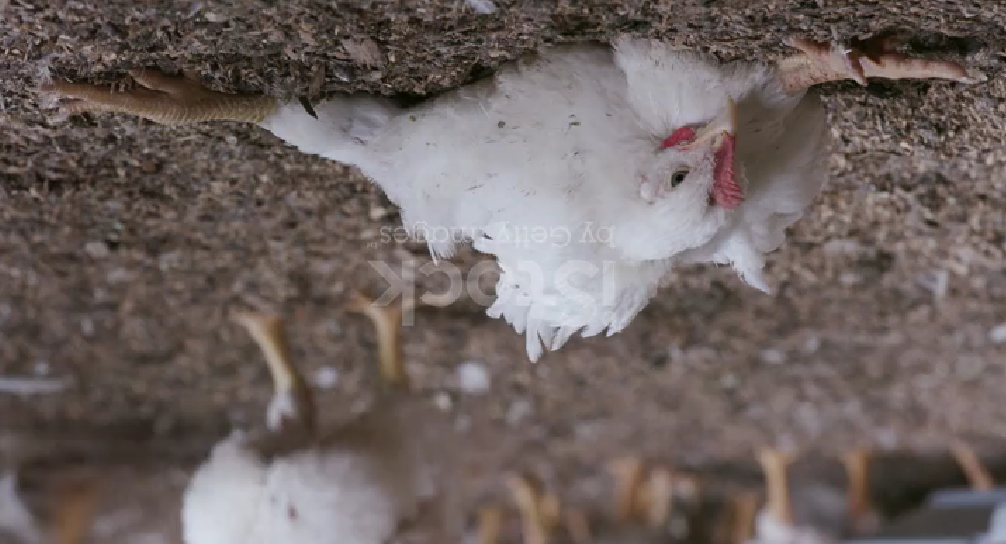Unhealthy: (29, 43, 987, 355)
